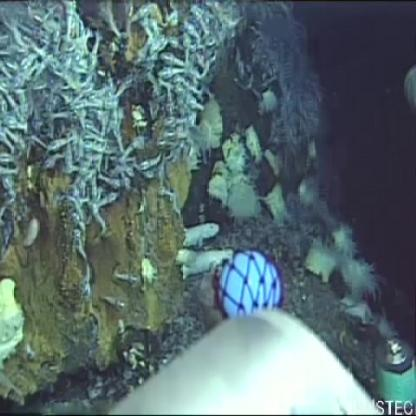Bio: (1, 1, 244, 216), (172, 216, 236, 280)
Rov: (108, 249, 415, 416)
